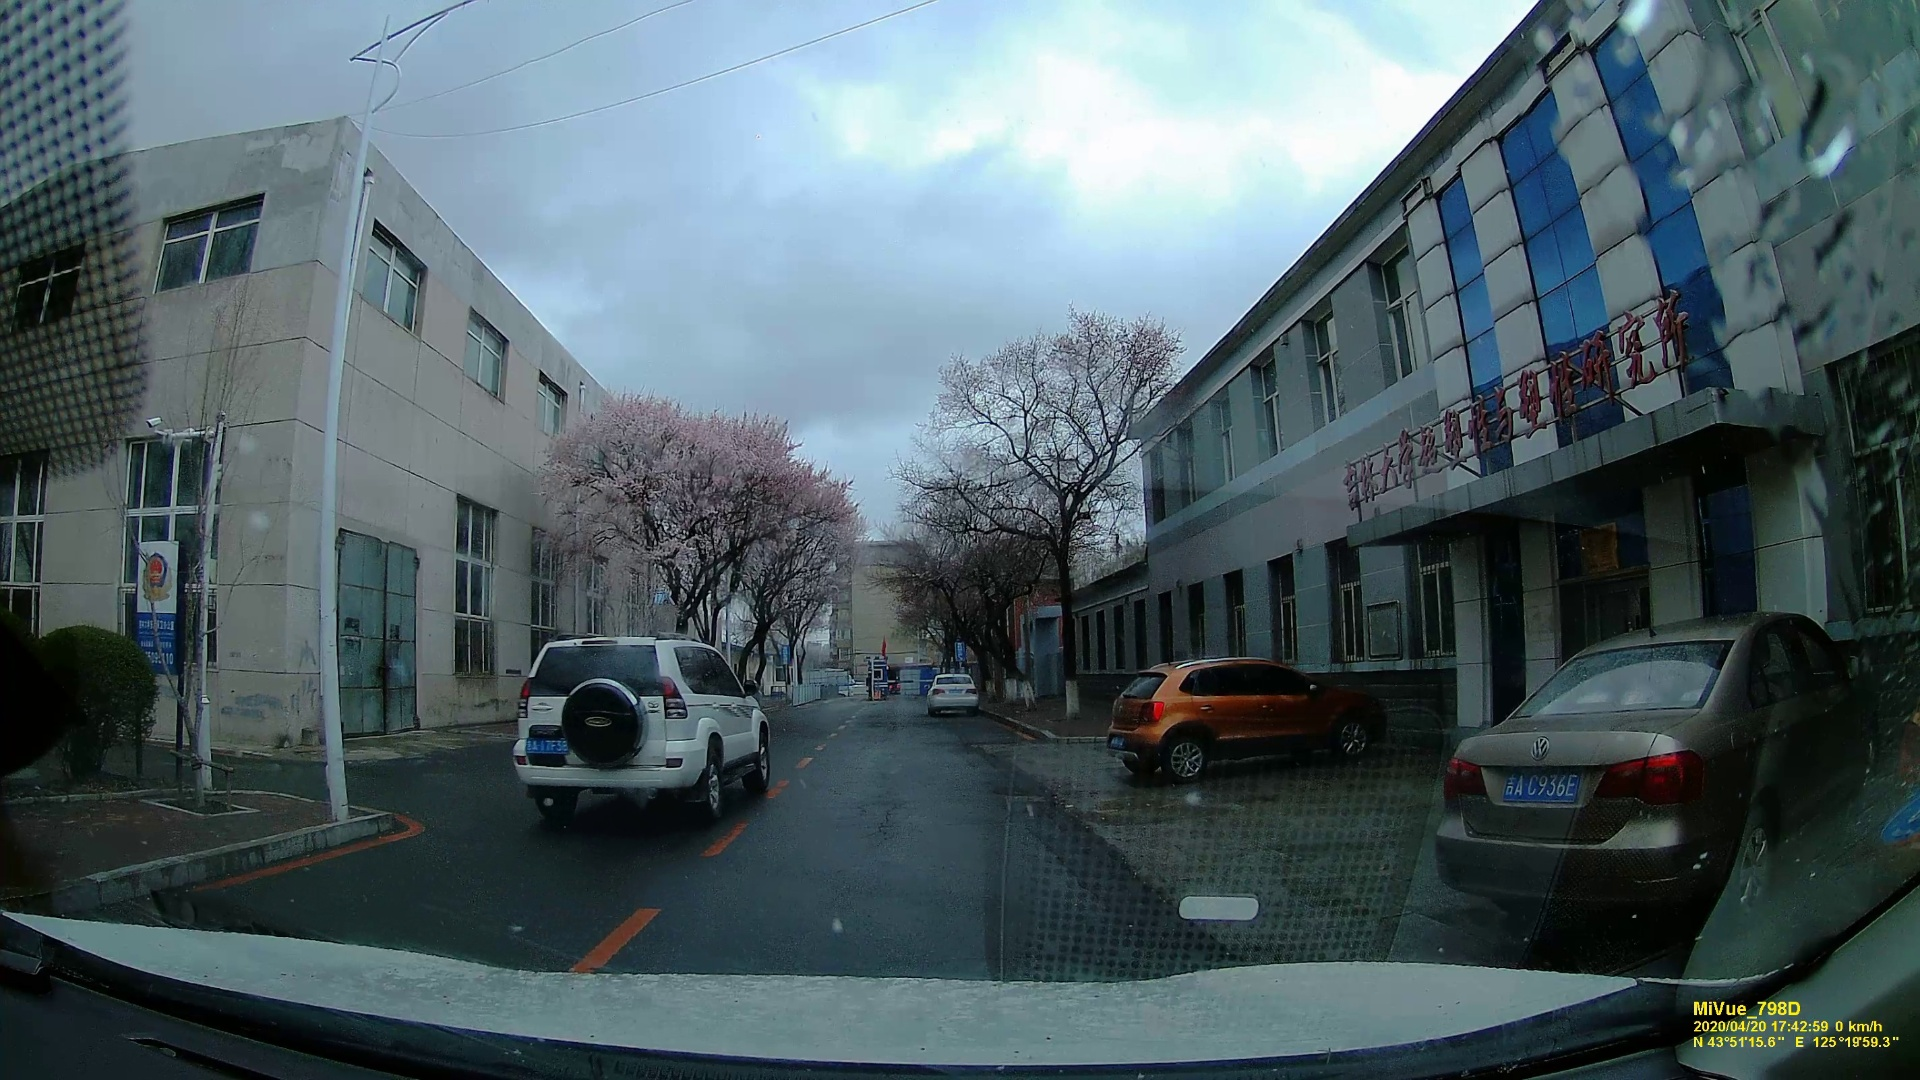traffic_sign: (128, 541, 182, 676)
vehicle: (1432, 620, 1894, 923), (501, 630, 775, 833), (1116, 655, 1390, 787), (924, 674, 980, 716)
